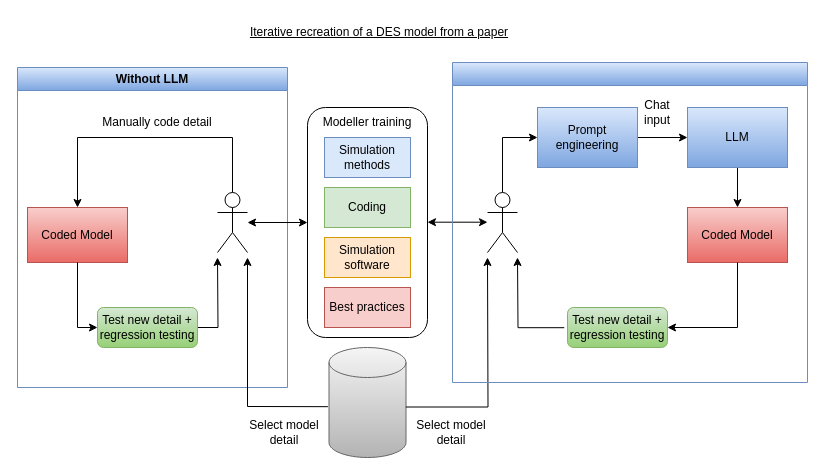
Some shapes in this 825 by 475 pixel diagram are drawn without their labels. Here are the shapes that lost their labels. From the top down, the centre of each, then its label:
(x=630, y=222): With LLM
(x=367, y=402): Published textual description of model
